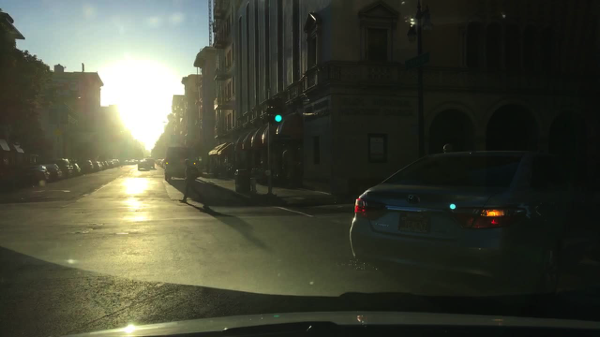car: (348, 147, 597, 293), (19, 164, 51, 182), (43, 163, 65, 180), (55, 157, 74, 176), (78, 160, 96, 172), (69, 162, 83, 174), (137, 159, 151, 171), (91, 160, 102, 172), (145, 158, 156, 169), (99, 160, 109, 170), (106, 161, 117, 168), (112, 159, 121, 167), (128, 160, 136, 164), (156, 159, 162, 164), (123, 161, 128, 164)
person: (178, 157, 208, 210), (440, 141, 454, 154)
traffic light: (272, 101, 283, 121)
truck: (164, 146, 195, 182)
